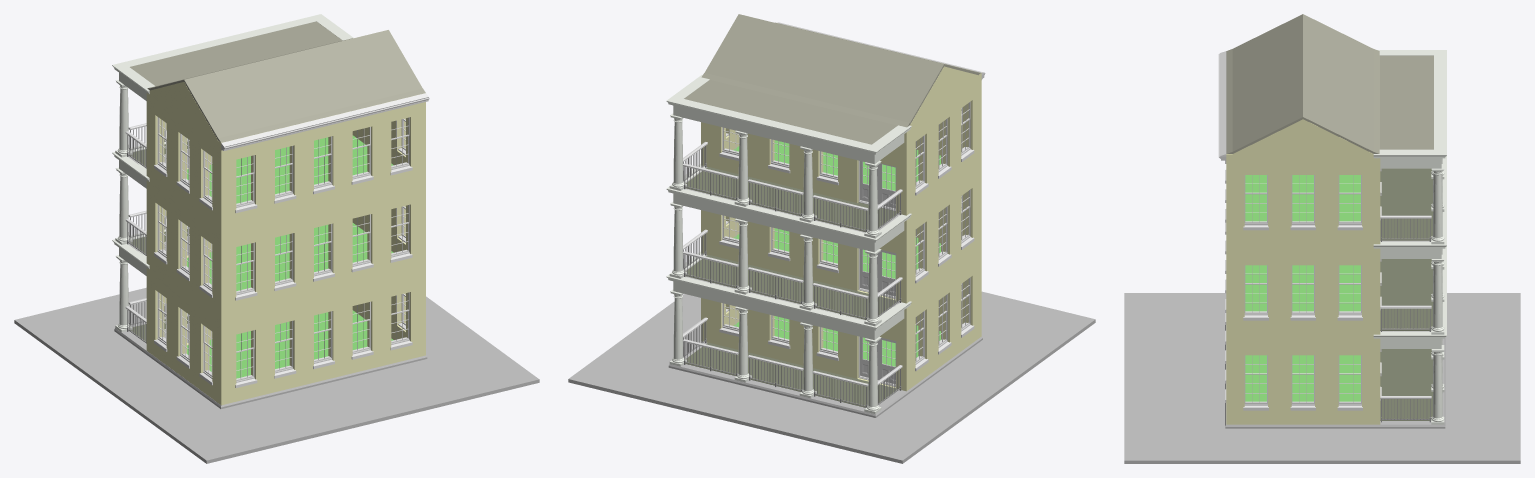
The model's file is building-example.glb.
The picture shows the model from 3 angles, left to right: view 1: azimuth 30°, elevation 25°; view 2: azimuth 150°, elevation 25°; view 3: azimuth 270°, elevation 25°; orthographic projection. The views are drawn at different scales.
Parts seen in each view (by area): view 1: Plane, IfcRoof/pitched-roof.001, IfcWall/exterior.007, IfcWall/exterior.003, IfcWall/exterior.012, IfcWall/exterior, IfcWall/exterior.008, IfcWall/exterior.001, IfcRoof/flat-roof, IfcCovering/living-floor/0, IfcCovering/living-floor/2, IfcCovering/living-floor/4 (+15 smaller); view 2: Plane, IfcRoof/pitched-roof.004, IfcWall/exterior.008, IfcWall/exterior.001, IfcWall/exterior, IfcWall/exterior.004, IfcWall/exterior.006, IfcWall/exterior.013, IfcRoof/flat-roof, IfcCovering/outside-floor/5, IfcBeam/external beam.008, IfcCovering/outside-floor/3 (+27 smaller); view 3: Plane, IfcWall/exterior.002, IfcWall/exterior.005, IfcWall/exterior.010, IfcRoof/pitched-roof.001, IfcRoof/pitched-roof.004, IfcRoof/flat-roof, IfcCovering/outside-floor/5, IfcCovering/outside-floor/3, IfcCovering/outside-floor/1, IfcCovering/living-floor/0, IfcCovering/living-floor/4 (+23 smaller).
Boxes of the visible parts, <box> form: Plane: <box>14,287,539,463</box>; IfcRoof/pitched-roof.001: <box>184,30,422,140</box>; IfcWall/exterior.007: <box>221,180,425,317</box>; IfcWall/exterior.003: <box>221,268,425,405</box>; IfcWall/exterior.012: <box>221,102,425,230</box>; IfcWall/exterior: <box>146,178,221,317</box>; IfcWall/exterior.008: <box>146,91,221,229</box>; IfcWall/exterior.001: <box>146,266,221,404</box>; IfcRoof/flat-roof: <box>130,21,342,86</box>; IfcCovering/living-floor/0: <box>187,310,393,378</box>; IfcCovering/living-floor/2: <box>187,223,393,290</box>; IfcCovering/living-floor/4: <box>187,135,393,203</box>; Plane: <box>568,287,1095,463</box>; IfcRoof/pitched-roof.004: <box>704,14,944,124</box>; IfcWall/exterior.008: <box>906,73,981,215</box>; IfcWall/exterior.001: <box>906,249,981,390</box>; IfcWall/exterior: <box>906,161,981,302</box>; IfcWall/exterior.004: <box>701,298,906,391</box>; IfcWall/exterior.006: <box>701,210,906,303</box>; IfcWall/exterior.013: <box>701,122,906,215</box>; IfcRoof/flat-roof: <box>684,79,897,144</box>; IfcCovering/outside-floor/5: <box>685,167,897,231</box>; IfcBeam/external beam.008: <box>666,99,876,164</box>; IfcCovering/outside-floor/3: <box>685,254,898,319</box>; Plane: <box>1124,293,1520,463</box>; IfcWall/exterior.002: <box>1226,334,1380,424</box>; IfcWall/exterior.005: <box>1226,244,1380,334</box>; IfcWall/exterior.010: <box>1226,154,1380,244</box>; IfcRoof/pitched-roof.001: <box>1232,14,1302,153</box>; IfcRoof/pitched-roof.004: <box>1303,14,1373,153</box>; IfcRoof/flat-roof: <box>1380,55,1433,149</box>; IfcCovering/outside-floor/5: <box>1380,168,1433,240</box>; IfcCovering/outside-floor/3: <box>1380,259,1433,330</box>; IfcCovering/outside-floor/1: <box>1380,349,1433,420</box>; IfcCovering/living-floor/0: <box>1245,355,1360,401</box>; IfcCovering/living-floor/4: <box>1245,175,1360,221</box>.
Bounding box in the file's own units: 15.45 × 13.54 × 15.45.
